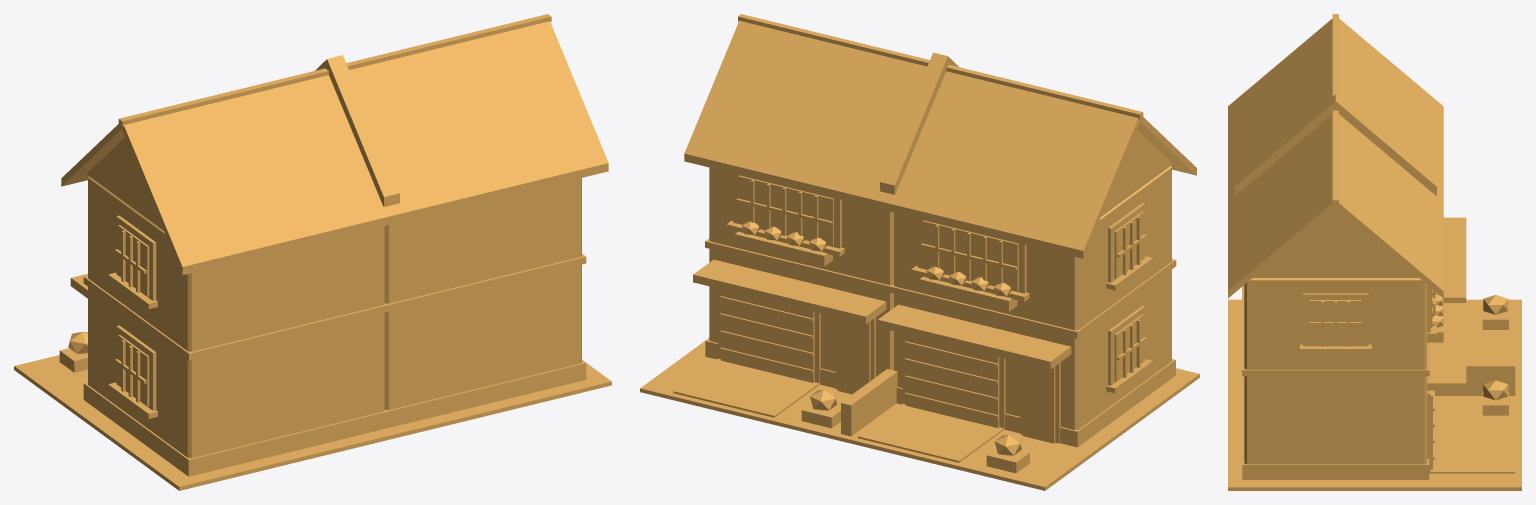
3 renders of one model, left to right at view 1: azimuth 30°, elevation 25°; view 2: azimuth 150°, elevation 25°; view 3: azimuth 270°, elevation 25°, orthographic. The views are drawn at different scales.
Parts seen in each view (by area): view 1: corpo; view 2: corpo; view 3: corpo.
Boxes of the visible parts, x1,y1,x2,y2 form: corpo: (14, 14, 611, 490); corpo: (640, 14, 1199, 490); corpo: (1228, 14, 1521, 490).
Size of the model in its own units: 1.36 by 1.01 by 0.9.
